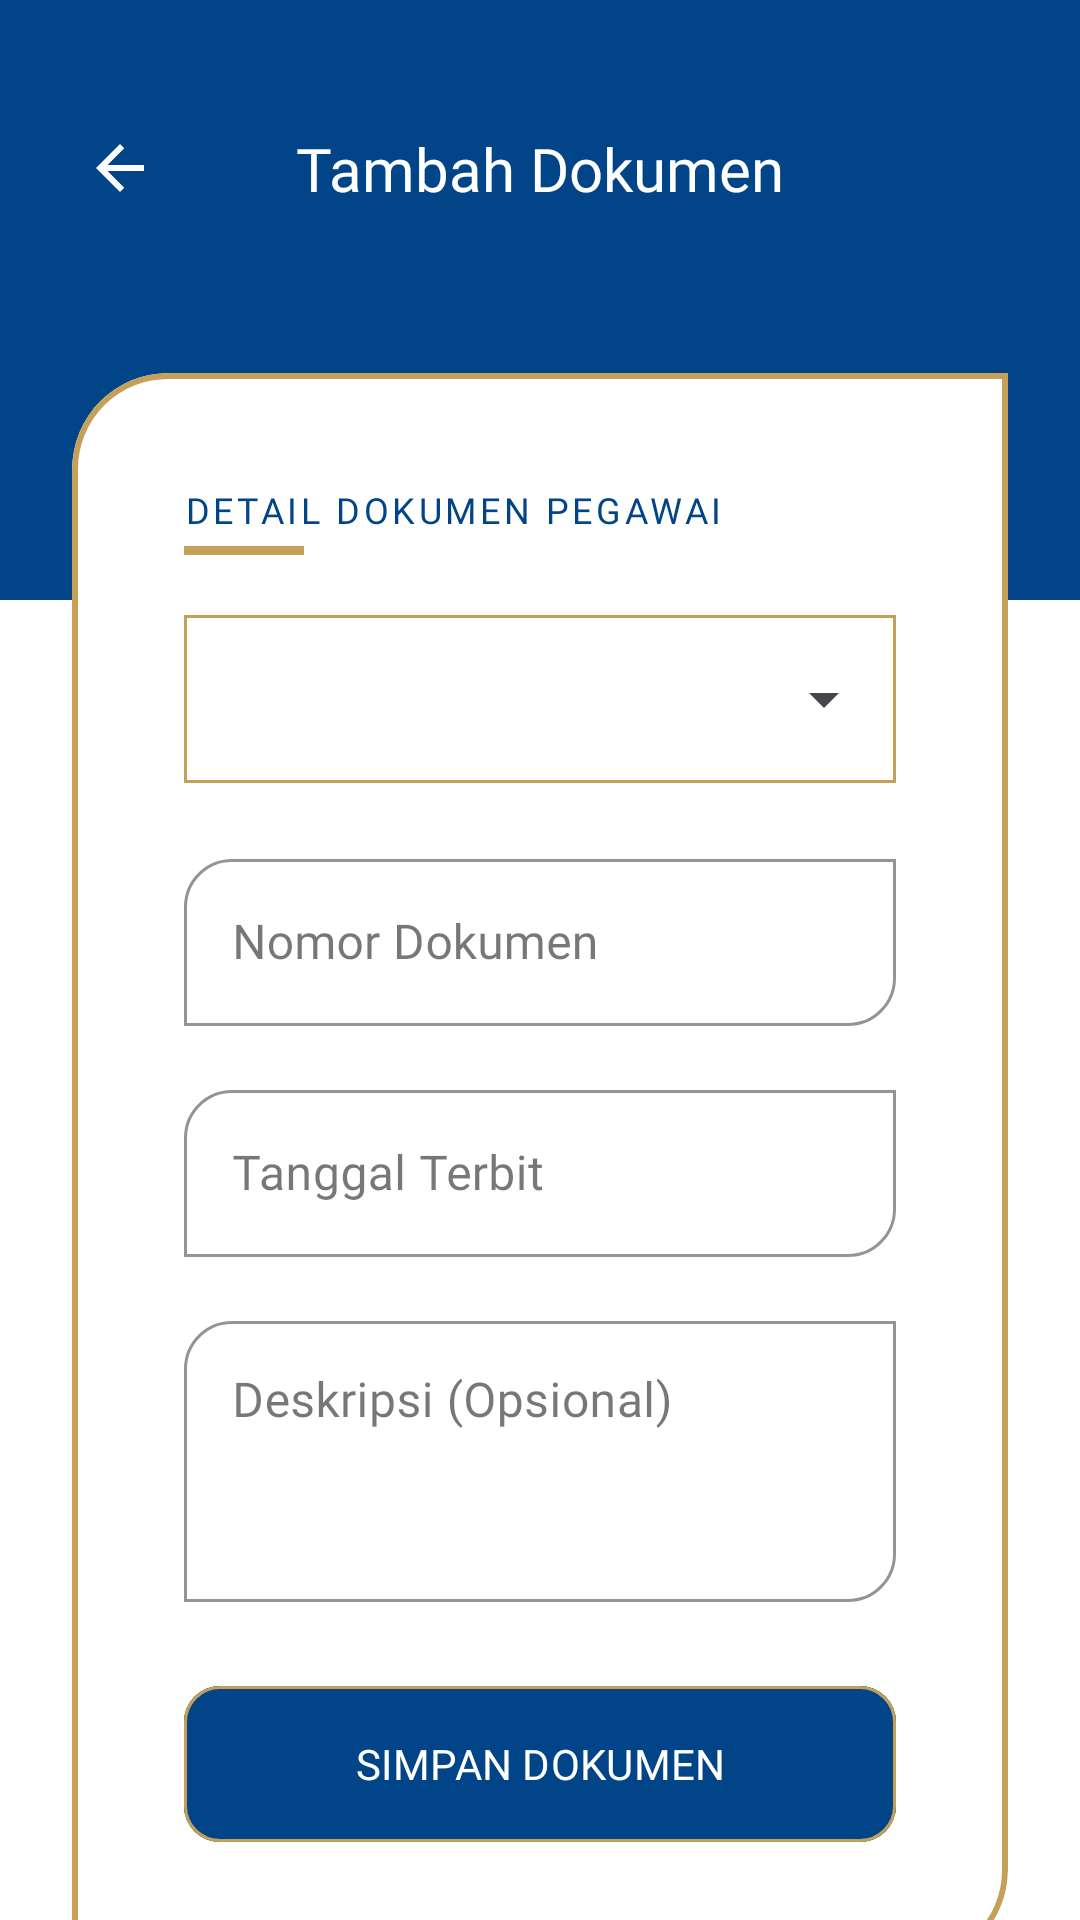

Icons on this 1080w x 1920h Android screen, each with its box as (x1, y1, x2, y2):
arrow back: (96, 144, 144, 192)
